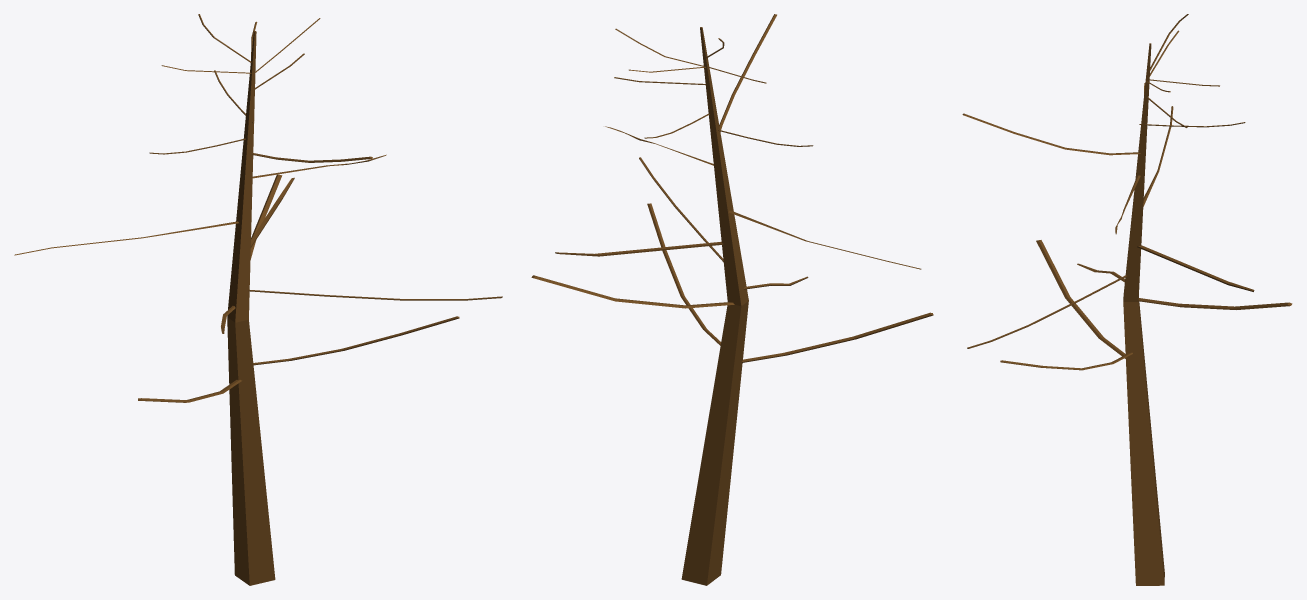
File: tree little.fbx
The picture shows the model from 3 angles, left to right: view 1: azimuth 30°, elevation 25°; view 2: azimuth 150°, elevation 25°; view 3: azimuth 270°, elevation 25°; orthographic projection. The views are drawn at different scales.
Parts seen in each view (by area): view 1: tree; view 2: tree; view 3: tree.
Boxes of the visible parts, left/top/right/bottom form: tree: left=14, top=14, right=502, bottom=585; tree: left=531, top=14, right=933, bottom=585; tree: left=962, top=14, right=1292, bottom=585.
Bounding box in the file's own units: 785 × 1090 × 595.
